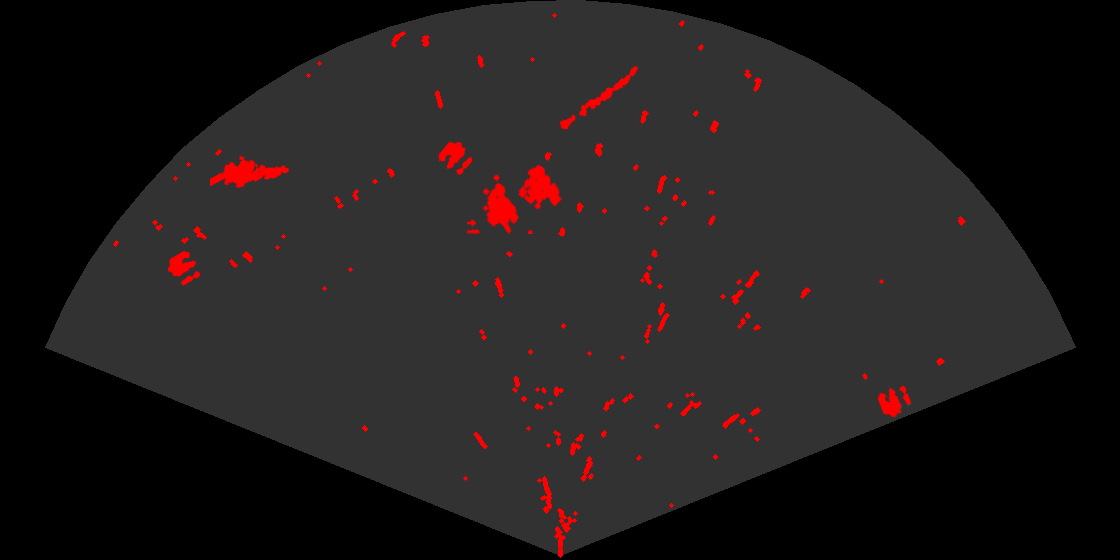ball: (166, 249, 202, 287), (437, 140, 474, 176), (876, 384, 913, 419)
cage: (467, 163, 564, 234)
chain: (558, 65, 640, 131)
frogman: (210, 154, 291, 190)
